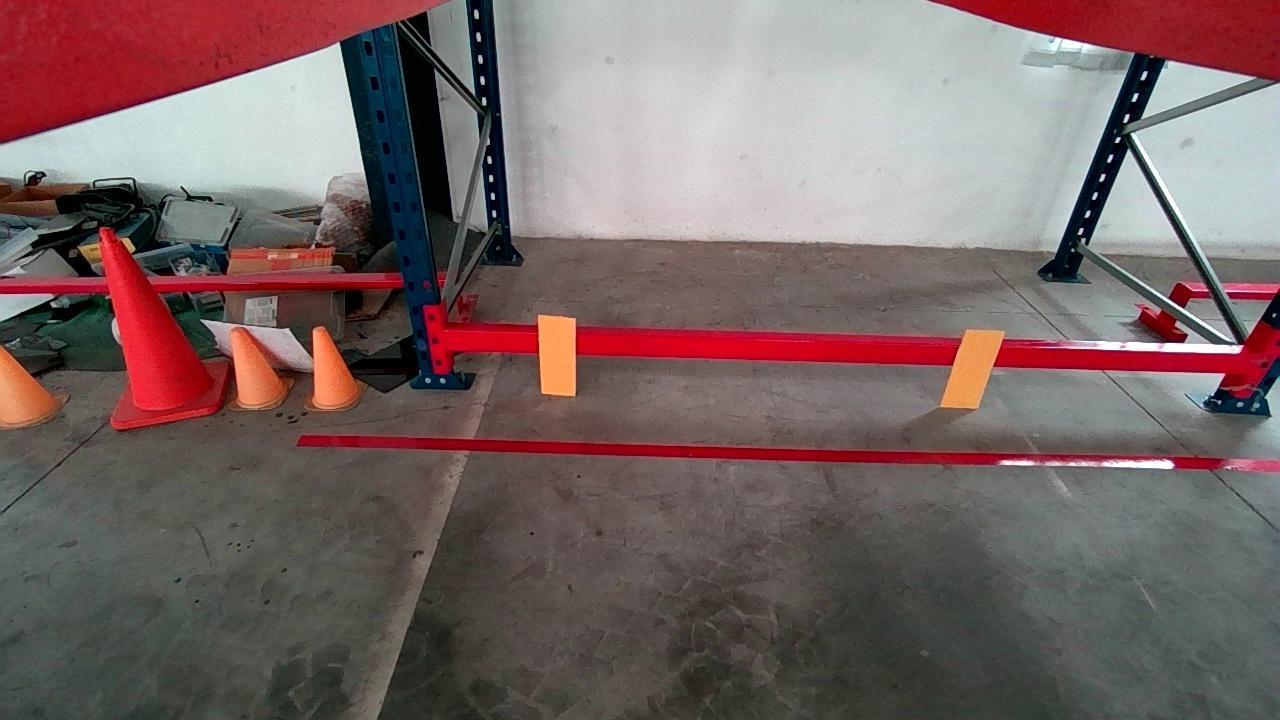h_rack: (444, 325, 1257, 375)
orange_strip: (941, 329, 1006, 407), (538, 316, 576, 395)
red_line: (299, 432, 1280, 471)
